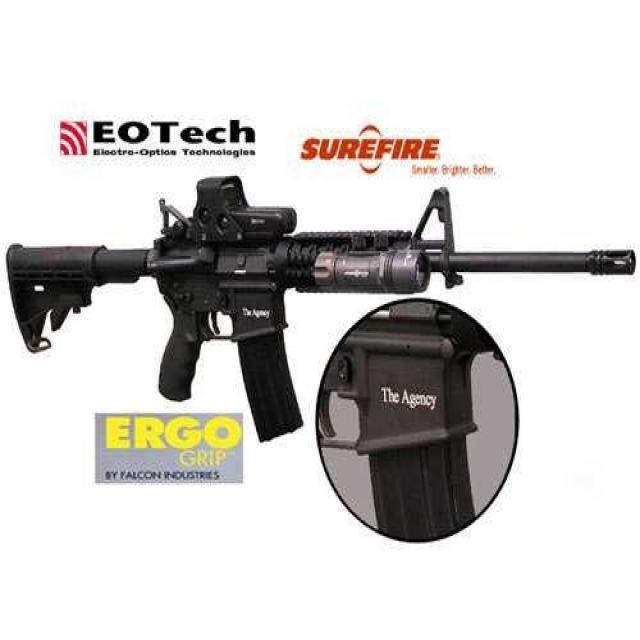weapon: (0, 185, 640, 408)
